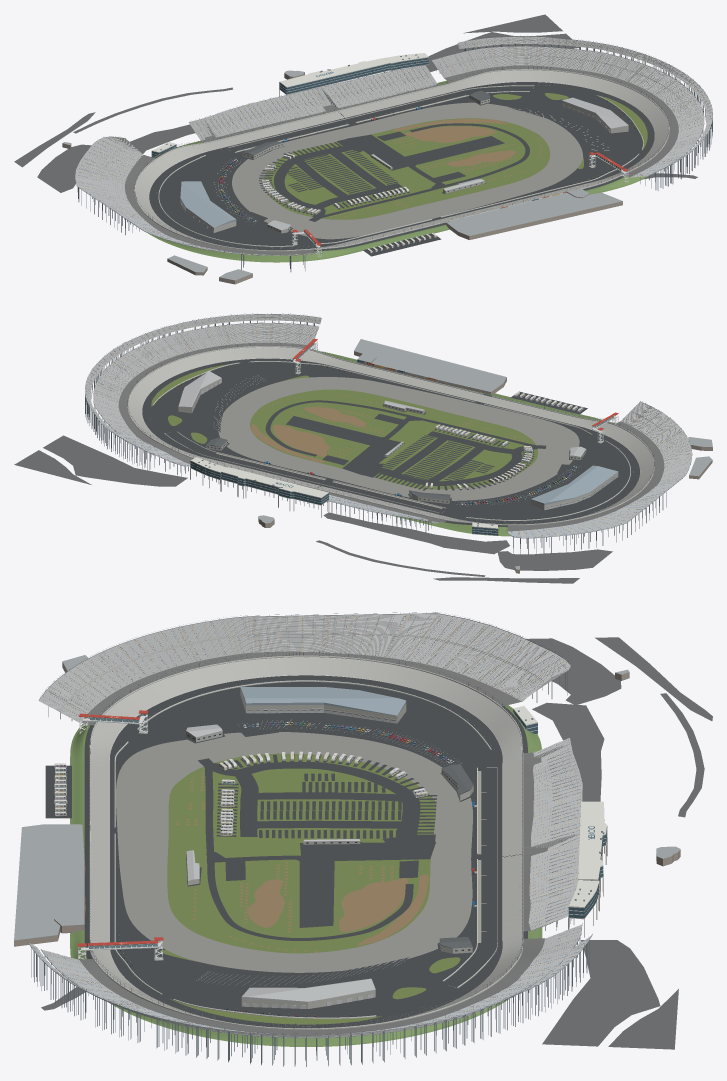
The model's file is DoverInternationalSpeedway.fbx.
The picture shows the model from 3 angles, top to bottom: view 1: azimuth 30°, elevation 25°; view 2: azimuth 150°, elevation 25°; view 3: azimuth 270°, elevation 25°; orthographic projection. The views are drawn at different scales.
Visible parts, largest first — view 1: Harness track, Interior grass, Interior asphalt, Racing surface, Dover grandstand Turns 3–4 lower grandstand terraced deck, Dover grandstand Frontstretch grandstand terraced deck, Dover grandstand Turns 3–4 lower grandstand aluminum benches, Infield asphalt pads, Dover grandstand Frontstretch grandstand aluminum benches, Infield roads, Dover grandstand Turns 1–2 grandstand terraced deck, Dover grandstand Turns 1–2 grandstand aluminum benches (+34 smaller); view 2: Harness track, Interior grass, Interior asphalt, Racing surface, Dover grandstand Turns 3–4 lower grandstand terraced deck, Infield asphalt pads, Dover grandstand Turns 3–4 lower grandstand aluminum benches, Dover grandstand Turns 1–2 grandstand terraced deck, Dover grandstand Turns 1–2 grandstand aluminum benches, Infield roads, Apron asphalt, Exterior building 07 roof (+29 smaller); view 3: Harness track, Interior grass, Interior asphalt, Dover grandstand Turns 1–2 grandstand terraced deck, Racing surface, Dover grandstand Turns 1–2 grandstand aluminum benches, Infield asphalt pads, Infield roads, Dover grandstand Frontstretch grandstand terraced deck, Apron asphalt, Exterior building 07 roof, Exterior asphalt approach 07 (+36 smaller).
Boxes of the visible parts, bbox=[...] form: Harness track: bbox=[232, 102, 582, 239]; Interior grass: bbox=[263, 93, 647, 219]; Interior asphalt: bbox=[156, 85, 642, 247]; Racing surface: bbox=[135, 70, 668, 248]; Dover grandstand Turns 3–4 lower grandstand terraced deck: bbox=[432, 46, 704, 176]; Dover grandstand Frontstretch grandstand terraced deck: bbox=[189, 65, 436, 140]; Dover grandstand Turns 3–4 lower grandstand aluminum benches: bbox=[433, 46, 703, 176]; Infield asphalt pads: bbox=[244, 131, 504, 223]; Dover grandstand Frontstretch grandstand aluminum benches: bbox=[190, 66, 436, 139]; Infield roads: bbox=[274, 123, 529, 217]; Dover grandstand Turns 1–2 grandstand terraced deck: bbox=[75, 137, 320, 255]; Dover grandstand Turns 1–2 grandstand aluminum benches: bbox=[76, 137, 320, 255]; Harness track: bbox=[218, 377, 579, 500]; Interior grass: bbox=[151, 362, 537, 489]; Interior asphalt: bbox=[150, 362, 632, 521]; Racing surface: bbox=[128, 347, 653, 522]; Dover grandstand Turns 3–4 lower grandstand terraced deck: bbox=[93, 323, 318, 466]; Infield asphalt pads: bbox=[286, 413, 577, 490]; Dover grandstand Turns 3–4 lower grandstand aluminum benches: bbox=[94, 323, 317, 466]; Dover grandstand Turns 1–2 grandstand terraced deck: bbox=[510, 402, 691, 538]; Dover grandstand Turns 1–2 grandstand aluminum benches: bbox=[507, 402, 691, 537]; Infield roads: bbox=[265, 400, 536, 485]; Apron asphalt: bbox=[142, 358, 639, 524]; Exterior building 07 roof: bbox=[354, 339, 506, 392]; Harness track: bbox=[116, 732, 472, 972]; Interior grass: bbox=[160, 753, 460, 1024]; Interior asphalt: bbox=[114, 680, 497, 1018]; Dover grandstand Turns 1–2 grandstand terraced deck: bbox=[39, 613, 570, 721]; Racing surface: bbox=[90, 657, 521, 1021]; Dover grandstand Turns 1–2 grandstand aluminum benches: bbox=[40, 614, 569, 721]; Infield asphalt pads: bbox=[214, 724, 437, 927]; Infield roads: bbox=[204, 762, 420, 940]; Dover grandstand Frontstretch grandstand terraced deck: bbox=[528, 738, 582, 930]; Apron asphalt: bbox=[110, 675, 502, 1028]; Exterior building 07 roof: bbox=[14, 824, 84, 940]; Exterior asphalt approach 07: bbox=[542, 940, 660, 1046].
Size of the model in its own units: 74924 by 2713 by 51523.
